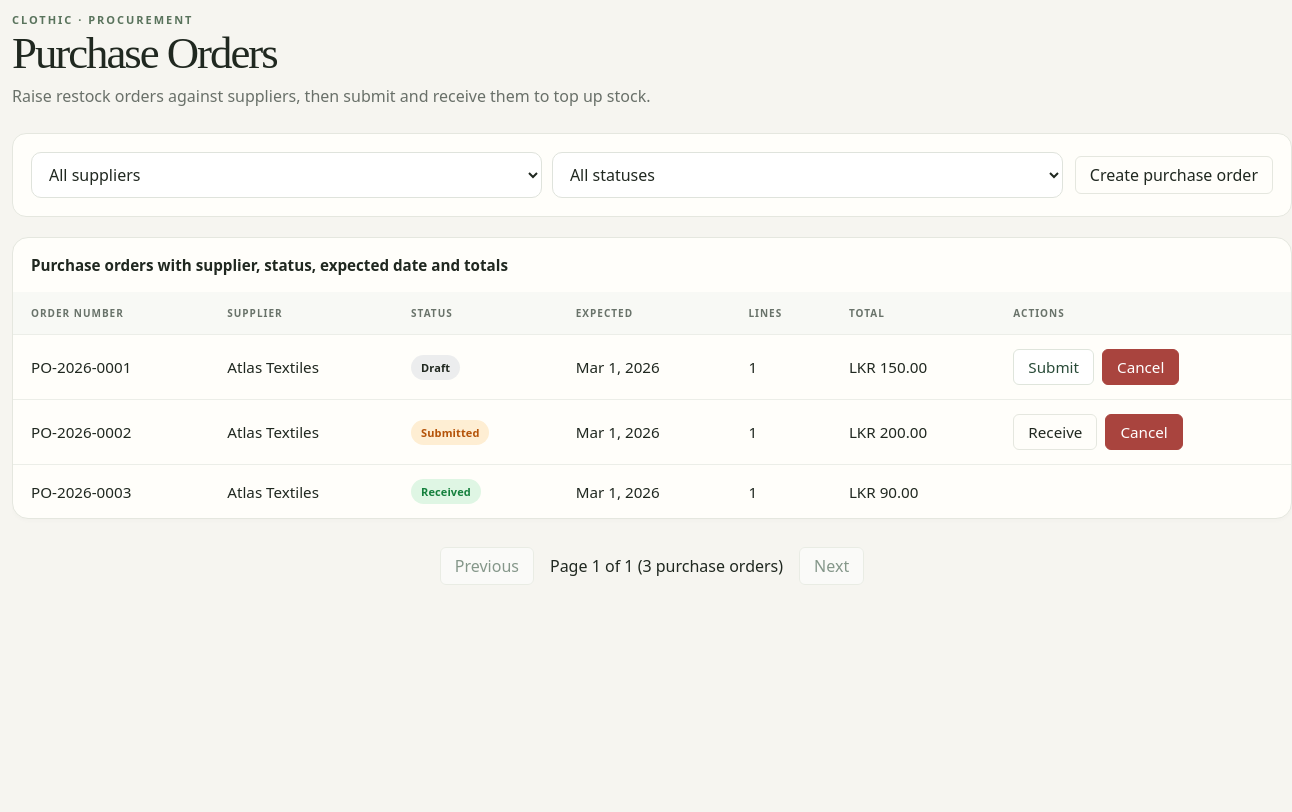
Scenario: PurchaseOrdersPage › submits a draft purchase order after confirmation
Click the button with aria-label "Submit PO-2026-0001" at (1054, 367), box [1013,349,1094,385]
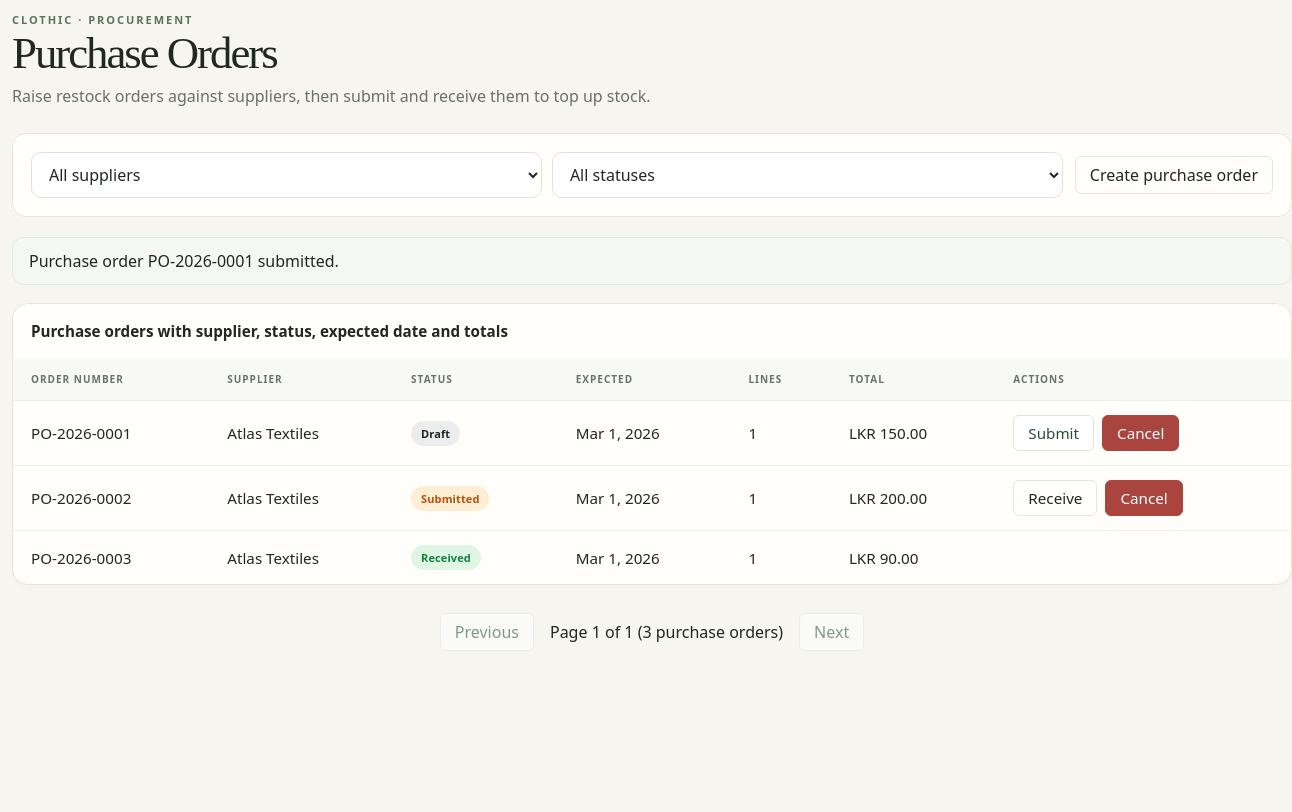
Expected: the text "Purchase order PO-2026-0001 submitted." is shown, [12,237,1291,285]
